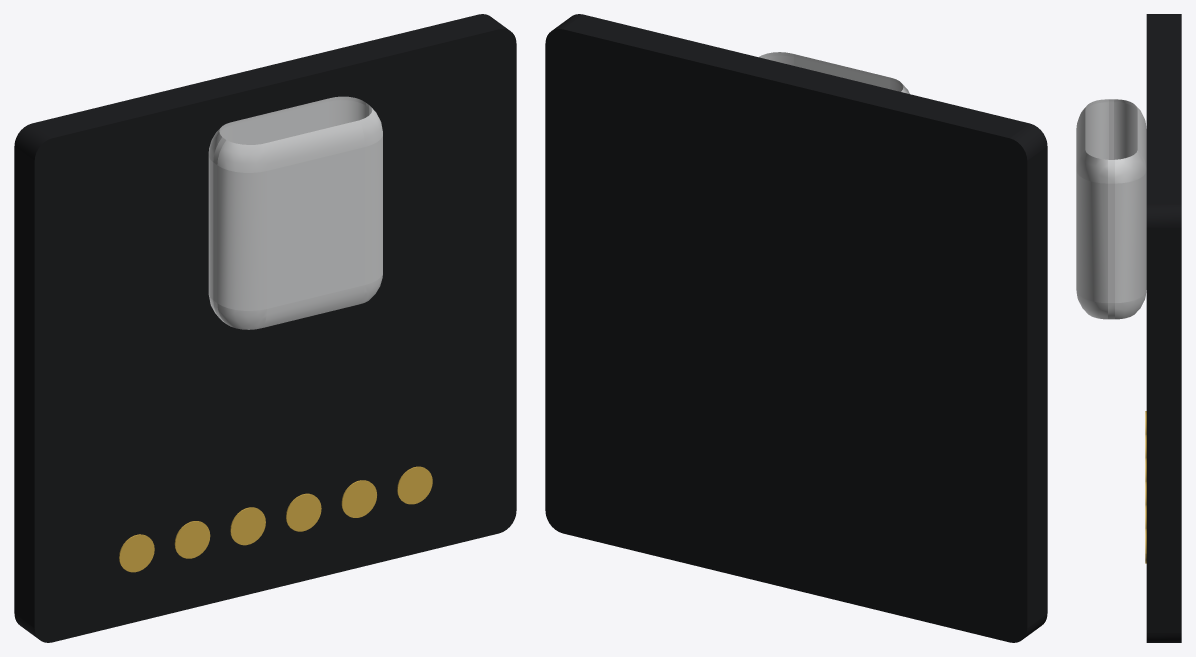
File: usb-c-breakout-sol-333011.glb
The picture shows the model from 3 angles, left to right: view 1: azimuth 30°, elevation 25°; view 2: azimuth 150°, elevation 25°; view 3: azimuth 270°, elevation 25°; orthographic projection. The views are drawn at different scales.
Parts seen in each view (by area): view 1: board, usb_c, pads_2_1, pads_2_3, pads_2_4, pads_2_6, pads_2_2, pads_2_5; view 2: board, usb_c; view 3: board, usb_c.
Part boxes in pixels (box(x1,y1,x2,y2)): board: box(14, 14, 516, 642); usb_c: box(208, 96, 382, 329); pads_2_1: box(119, 534, 154, 572); pads_2_3: box(230, 507, 265, 545); pads_2_4: box(286, 493, 321, 531); pads_2_6: box(397, 466, 432, 504); pads_2_2: box(174, 521, 210, 558); pads_2_5: box(341, 480, 376, 517); board: box(545, 14, 1047, 642); usb_c: box(758, 52, 909, 93); board: box(1146, 14, 1181, 642); usb_c: box(1076, 99, 1146, 319).
Size of the model in its own units: 22 by 22 by 4.8.
